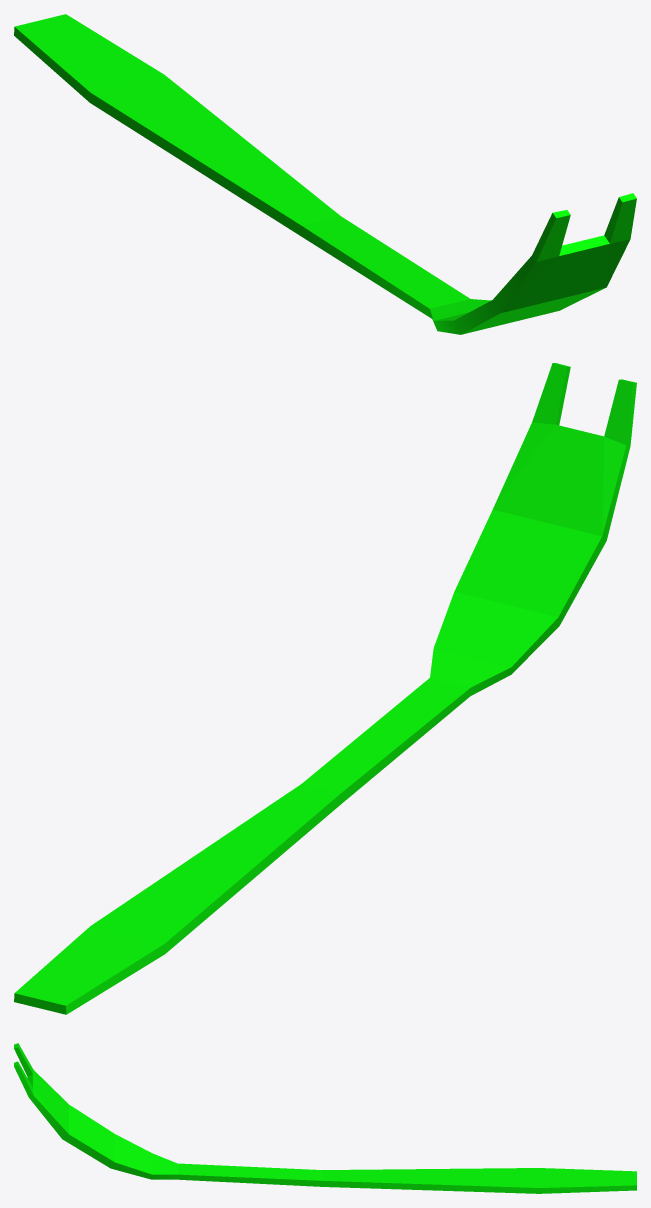
The model's file is SM_KitchenTool_11_Collider.fbx.
The picture shows the model from 3 angles, top to bottom: view 1: azimuth 30°, elevation 25°; view 2: azimuth 150°, elevation 25°; view 3: azimuth 270°, elevation 25°; orthographic projection. The views are drawn at different scales.
Visible parts, largest first — view 1: SM_KitchenTool_11_Collider; view 2: SM_KitchenTool_11_Collider; view 3: SM_KitchenTool_11_Collider.
Part boxes in pixels (x1,y1,x2,y2): SM_KitchenTool_11_Collider: [14, 14, 636, 334]; SM_KitchenTool_11_Collider: [14, 363, 636, 1014]; SM_KitchenTool_11_Collider: [14, 1043, 636, 1193].
Size of the model in its own units: 5.48 by 11.07 by 48.23.
